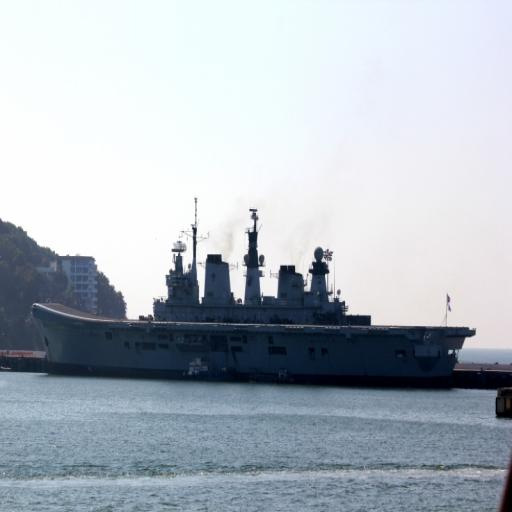Portanaves: (27, 190, 484, 397)
